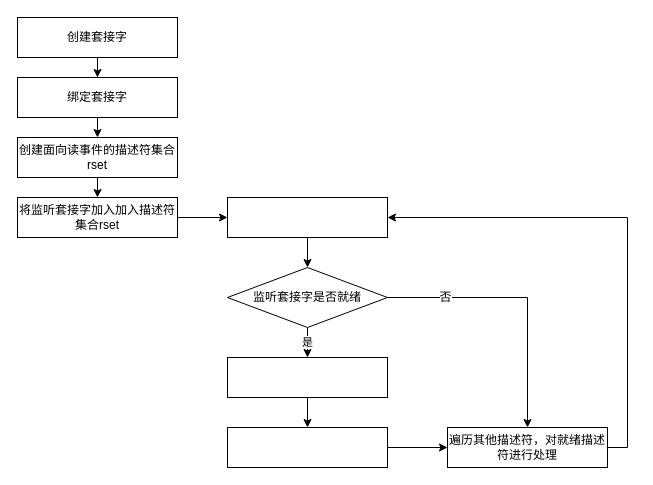
Some shapes in this 653 by 485 pixel diagram are drawn without their labels. The shapes that lost their labels are listed below. From the top down, each one's centre as x and y in pixels, then its label:
(307,217): 调用select函数，检测是否有文件描述符就绪
(307,377): 接=受客户端连接，创建已连接套接字
(307,447): 将已连接套接字加入rset,设置监听读事件
